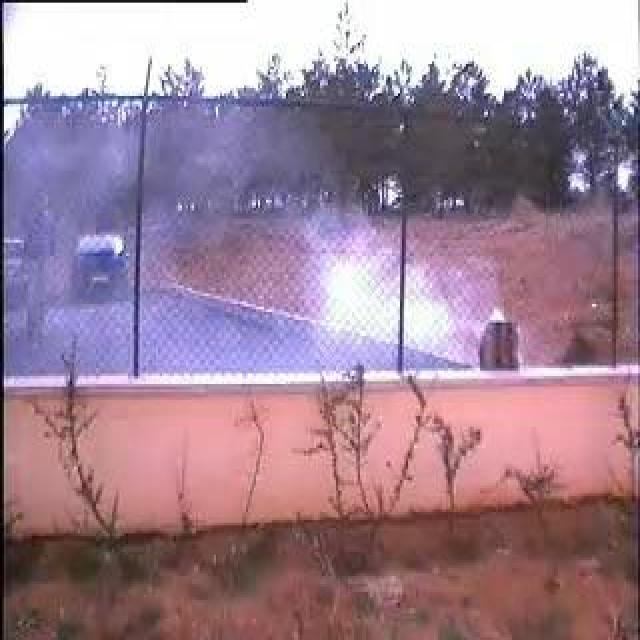Smoke: (149, 111, 477, 369)
